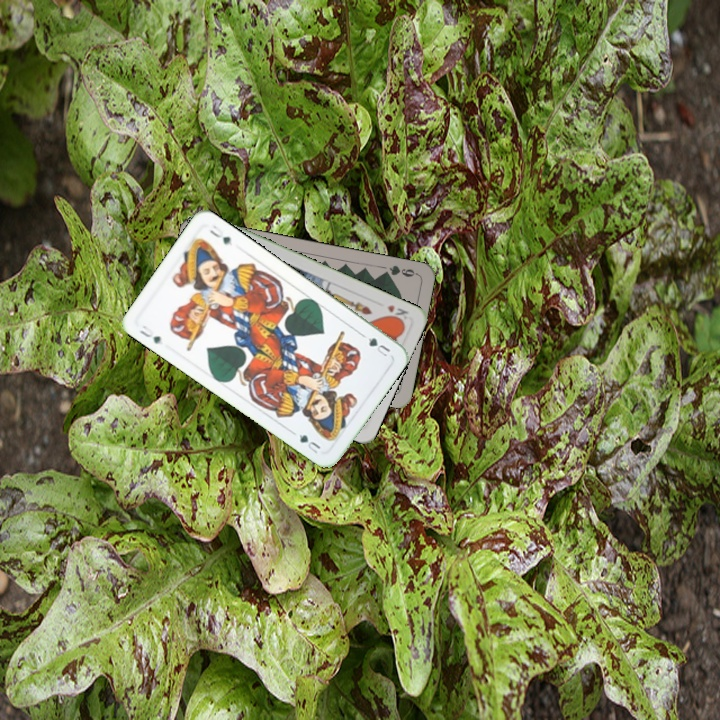G9: (378, 261, 419, 280)
GU: (363, 333, 393, 359), (135, 321, 163, 346)
HK: (382, 301, 411, 325)
